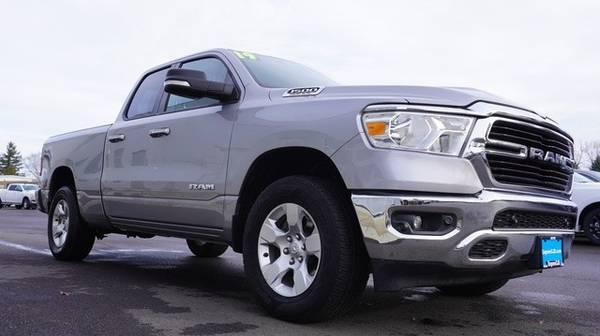Front_Bumper: (330, 132, 576, 287)
Front_Fender: (223, 86, 470, 233)
Front_Right_Door: (147, 98, 243, 233)
Front_Right_Window: (163, 53, 243, 110)
Front_Windshield: (240, 50, 340, 88)
Grille: (465, 99, 577, 193)
Left_Headlight: (358, 105, 475, 158)
Rear_Fender: (40, 123, 111, 223)
Rear_Right_Door: (101, 115, 158, 229)
Rear_Right_Window: (123, 63, 177, 119)
Roof: (117, 46, 265, 120)
Wheel: (239, 165, 365, 306), (46, 190, 94, 264)
